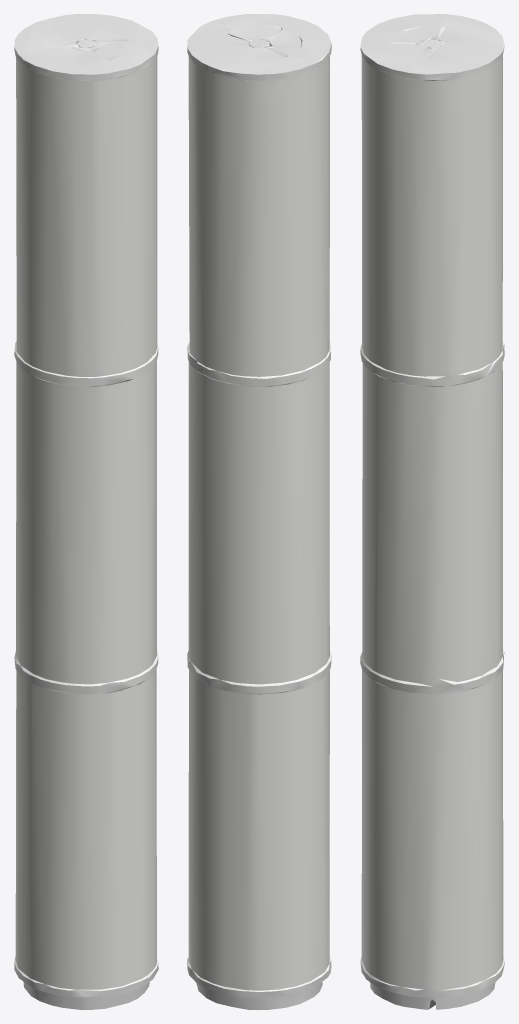
Rendered from LB-LR-FLOORLAMP-01.glb.
3 views of the same model, side by side, from view 1: azimuth 30°, elevation 25°; view 2: azimuth 150°, elevation 25°; view 3: azimuth 270°, elevation 25° (orthographic).
Visible parts, largest first — view 1: ProcessedMeshNode; view 2: ProcessedMeshNode; view 3: ProcessedMeshNode.
Part boxes in pixels (x1,y1,x2,y2): ProcessedMeshNode: (14,14,158,1009); ProcessedMeshNode: (187,14,331,1009); ProcessedMeshNode: (360,14,504,1009).
Bounding box in the file's own units: 0.1923 × 1.38 × 0.1928.
Materials: 1 (1 with a texture image).
